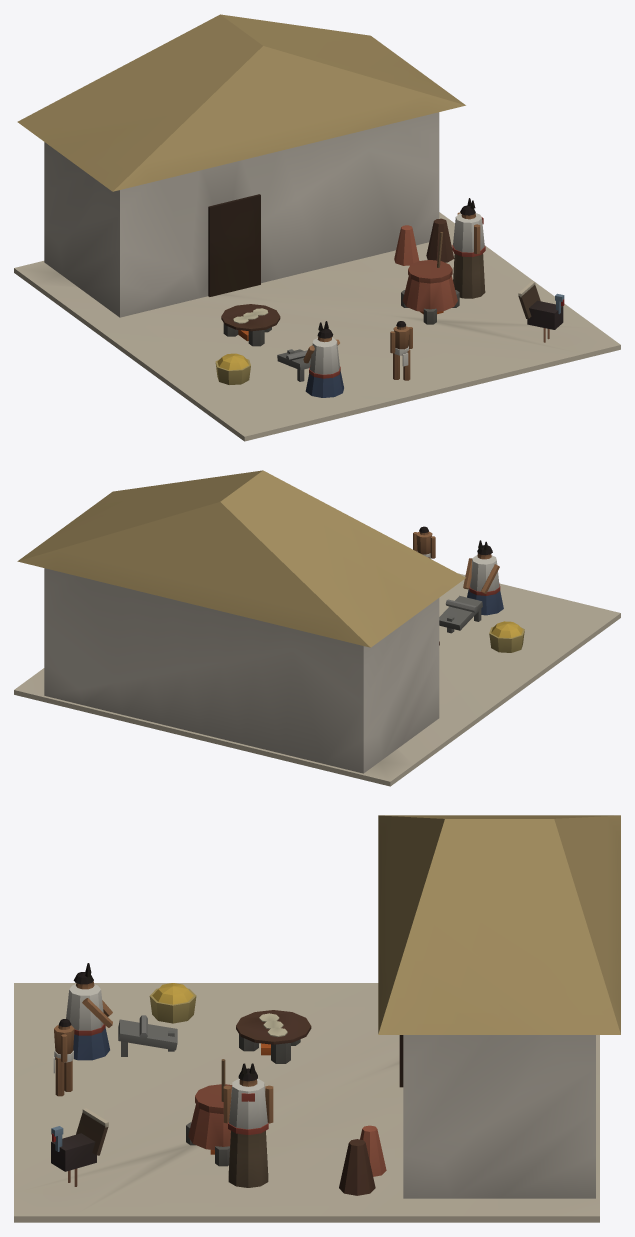
Rendered from bakery.glb.
3 views of the same model, one above another, from view 1: azimuth 30°, elevation 25°; view 2: azimuth 150°, elevation 25°; view 3: azimuth 270°, elevation 25° (orthographic). The views are drawn at different scales.
Visible parts, largest first — view 1: base; view 2: base; view 3: base.
Part boxes in pixels (x1=…): base: x1=14, y1=14, x2=620, y2=441; base: x1=14, y1=470, x2=620, y2=786; base: x1=14, y1=815, x2=620, y2=1222.
Size of the model in its own units: 6.6 by 3.78 by 7.25.
